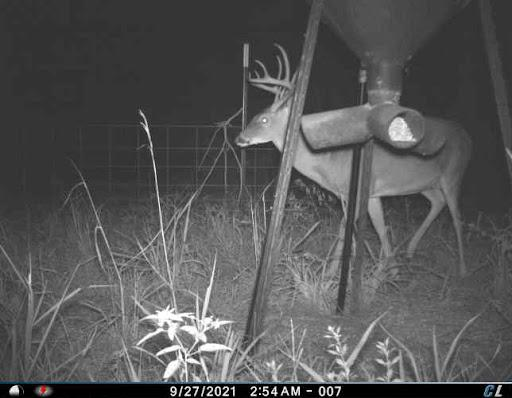Deer: (236, 36, 478, 282)
